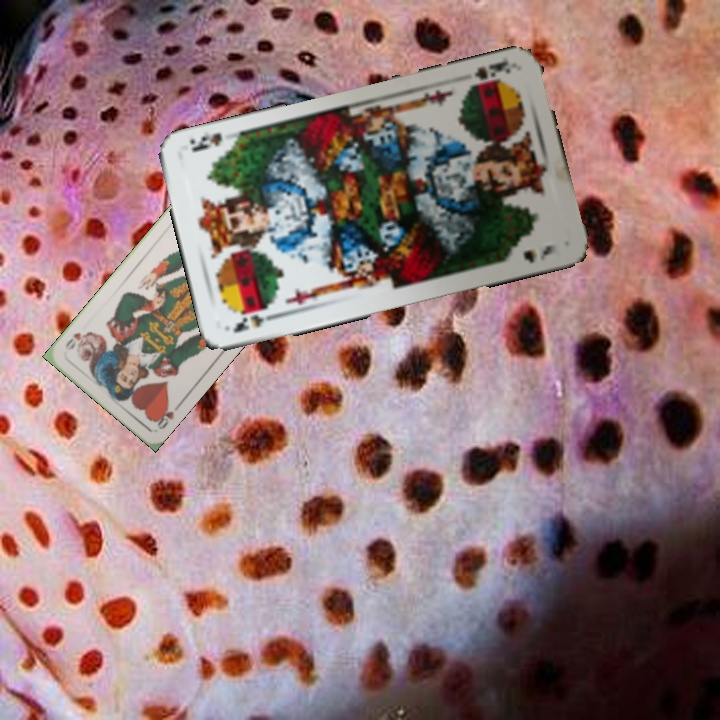HO: (150, 399, 184, 432)
SK: (464, 55, 514, 92), (229, 308, 282, 335)
